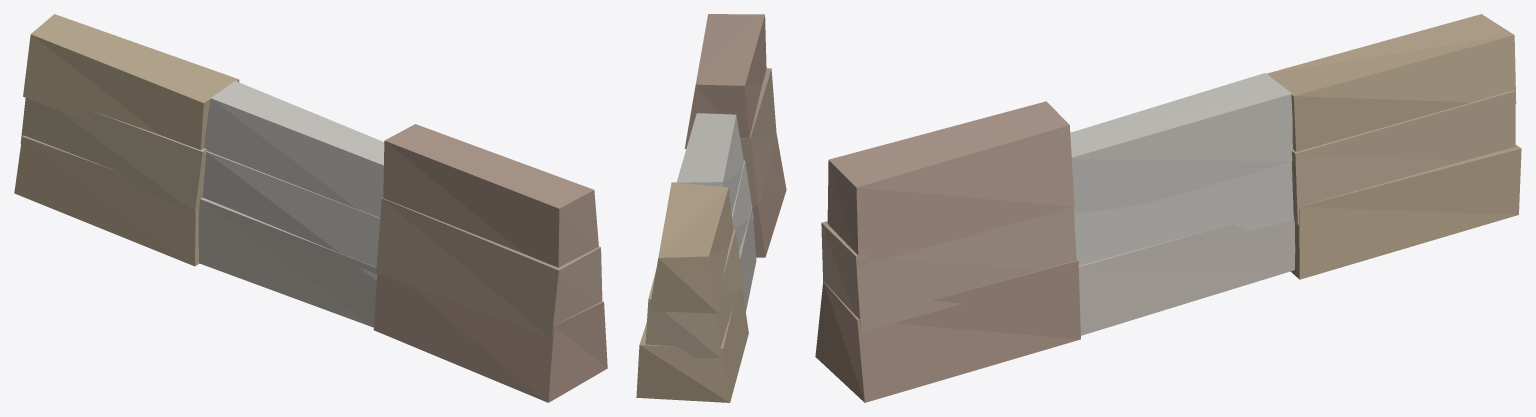
Rendered from farm_2_14_mid.glb.
3 renders of one model, left to right at view 1: azimuth 30°, elevation 25°; view 2: azimuth 150°, elevation 25°; view 3: azimuth 270°, elevation 25°, orthographic. The views are drawn at different scales.
Visible parts, largest first — view 1: geometry_0; view 2: geometry_0; view 3: geometry_0.
Part boxes in pixels (x1,y1,x2,y2): geometry_0: (14,14,607,402); geometry_0: (636,14,786,402); geometry_0: (815,14,1521,402).
Size of the model in its own units: 2.66 by 1.63 by 4.59.
